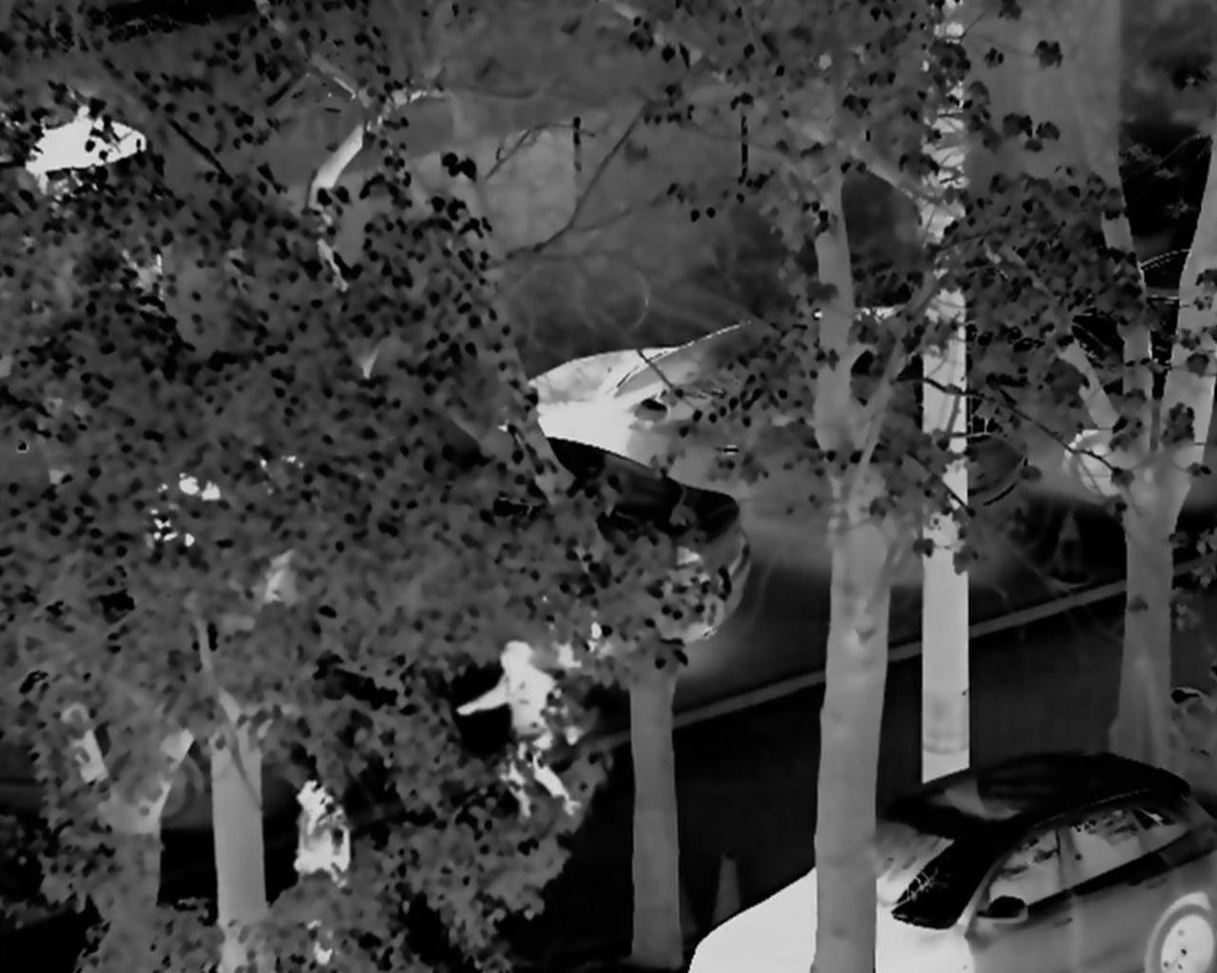person: (454, 633, 589, 849), (283, 775, 358, 964)
